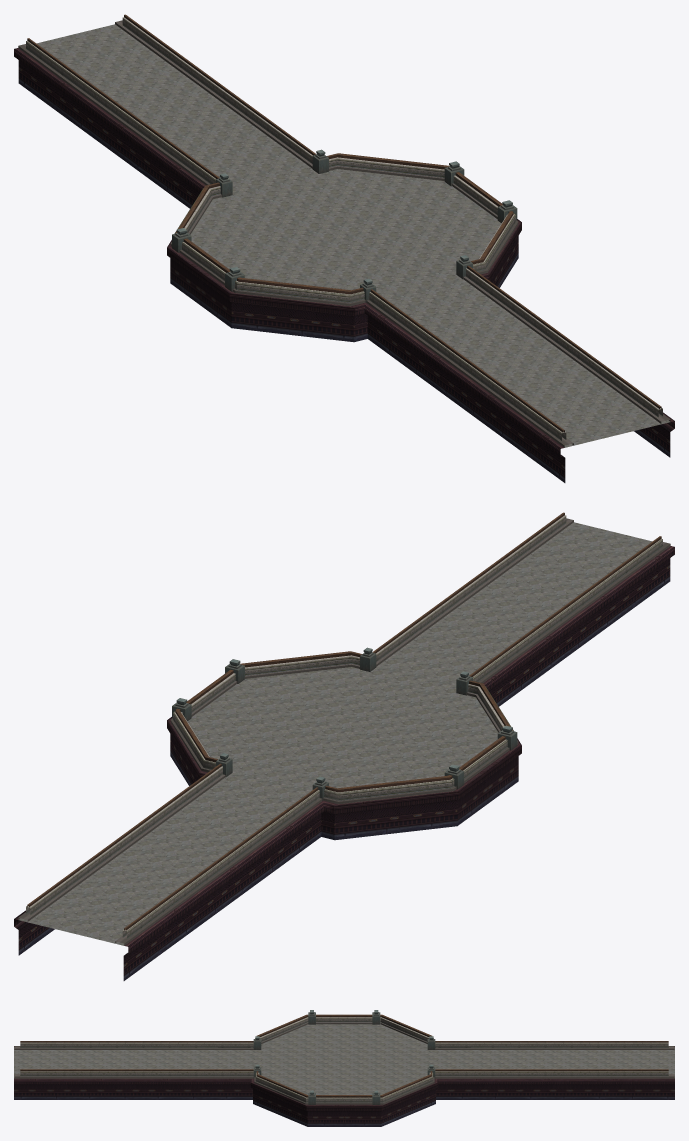
File: JueDouChang.FBX
3 renders of one model, top to bottom at view 1: azimuth 30°, elevation 25°; view 2: azimuth 150°, elevation 25°; view 3: azimuth 270°, elevation 25°, orthographic. The views are drawn at different scales.
Parts seen in each view (by area): view 1: Group001, Object059, Object060; view 2: Group001, Object060, Object059; view 3: Group001, Object059, Object060.
Part boxes in pixels (bbox=[...]): Group001: bbox=[14, 14, 674, 482]; Object059: bbox=[384, 279, 669, 447]; Object060: bbox=[36, 24, 312, 189]; Group001: bbox=[14, 512, 674, 980]; Object060: bbox=[19, 777, 304, 945]; Object059: bbox=[376, 522, 652, 687]; Group001: bbox=[14, 1010, 674, 1126]; Object059: bbox=[14, 1047, 254, 1077]; Object060: bbox=[434, 1047, 674, 1077].
Size of the model in its own units: 32672 by 5855 by 105781.
